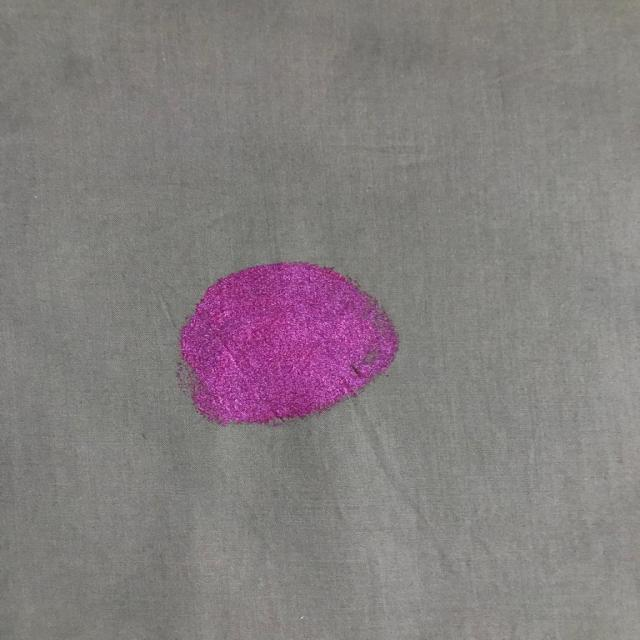Stain: (181, 262, 398, 424)
